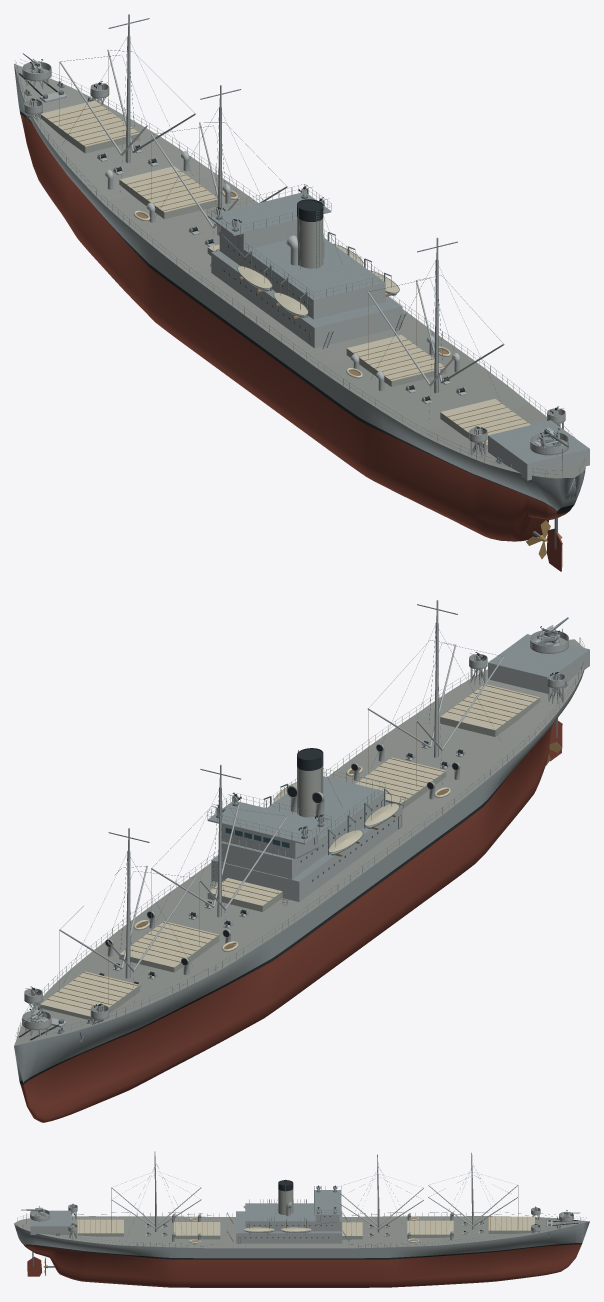
File: liberty-cargo.glb
3 views of the same model, one above another, from view 1: azimuth 30°, elevation 25°; view 2: azimuth 150°, elevation 25°; view 3: azimuth 270°, elevation 25° (orthographic). The views are drawn at different scales.
Parts seen in each view (by area): view 1: hull.surface, boat-deck.mesh, midship-house.mesh, poop-house.mesh, hatch-2.mesh, hatch-1.mesh, hatch-4.mesh, bridge-wings.mesh, hatch-battens.mesh, hatch-5.mesh, deck-rails.mesh, funnel.mesh (+6 smaller); view 2: hull.surface, boat-deck.mesh, midship-house.mesh, poop-house.mesh, hatch-5.mesh, hatch-2.mesh, bridge-wings.mesh, hatch-1.mesh, hatch-battens.mesh, hatch-4.mesh, deck-rails.mesh, funnel.mesh (+8 smaller); view 3: hull.surface, boat-deck.mesh, midship-house.mesh, hatch-5.mesh, hatch-2.mesh, hatch-1.mesh, poop-house.mesh, hatch-4.mesh, bridge-wings.mesh, deck-rails.mesh, funnel.mesh, hatch-battens.mesh (+7 smaller).
Boxes of the visible parts, x1,y1,x2,y2 form: hull.surface: [14, 63, 585, 541]; boat-deck.mesh: [219, 226, 385, 319]; midship-house.mesh: [211, 250, 402, 348]; poop-house.mesh: [488, 420, 589, 480]; hatch-2.mesh: [119, 166, 217, 219]; hatch-1.mesh: [41, 100, 139, 153]; hatch-4.mesh: [346, 335, 446, 386]; bridge-wings.mesh: [207, 184, 331, 235]; hatch-battens.mesh: [47, 105, 528, 443]; hatch-5.mesh: [440, 399, 530, 448]; deck-rails.mesh: [15, 59, 585, 477]; funnel.mesh: [297, 199, 342, 268]; hull.surface: [14, 639, 584, 1122]; boat-deck.mesh: [222, 768, 385, 879]; midship-house.mesh: [211, 802, 402, 901]; poop-house.mesh: [488, 634, 589, 694]; hatch-5.mesh: [440, 684, 540, 736]; hatch-2.mesh: [119, 921, 219, 972]; bridge-wings.mesh: [207, 792, 331, 844]; hatch-1.mesh: [40, 971, 139, 1019]; hatch-battens.mesh: [47, 685, 538, 1009]; hatch-4.mesh: [355, 757, 446, 808]; deck-rails.mesh: [15, 637, 584, 1041]; funnel.mesh: [297, 748, 340, 817]; hull.surface: [14, 1216, 589, 1287]; boat-deck.mesh: [245, 1199, 341, 1231]; midship-house.mesh: [236, 1211, 342, 1243]; hatch-5.mesh: [77, 1219, 123, 1236]; hatch-2.mesh: [407, 1220, 453, 1237]; hatch-1.mesh: [488, 1216, 534, 1233]; poop-house.mesh: [30, 1210, 70, 1234]; hatch-4.mesh: [174, 1222, 220, 1239]; bridge-wings.mesh: [314, 1186, 341, 1215]; deck-rails.mesh: [17, 1212, 586, 1247]; funnel.mesh: [275, 1179, 293, 1214]; hatch-battens.mesh: [79, 1216, 527, 1235].
Bounding box in the file's own units: 17.33 × 32.23 × 135.
19 materials, 13 textured.
